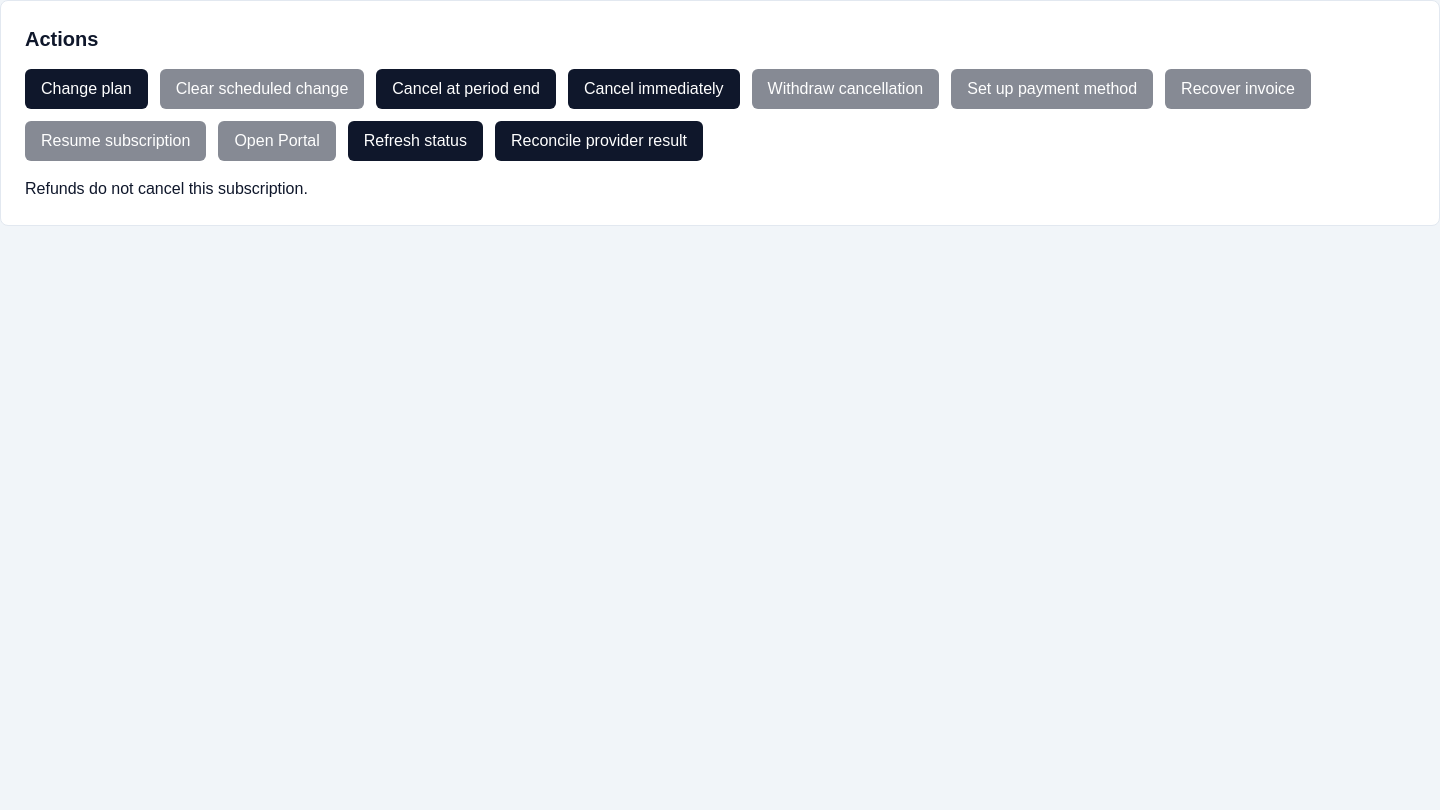
Test: rechecks quote expiry at confirmation instead of applying an expired quote
Step 1. Click the button "Change plan" → (86, 89), box [25,69,148,109]
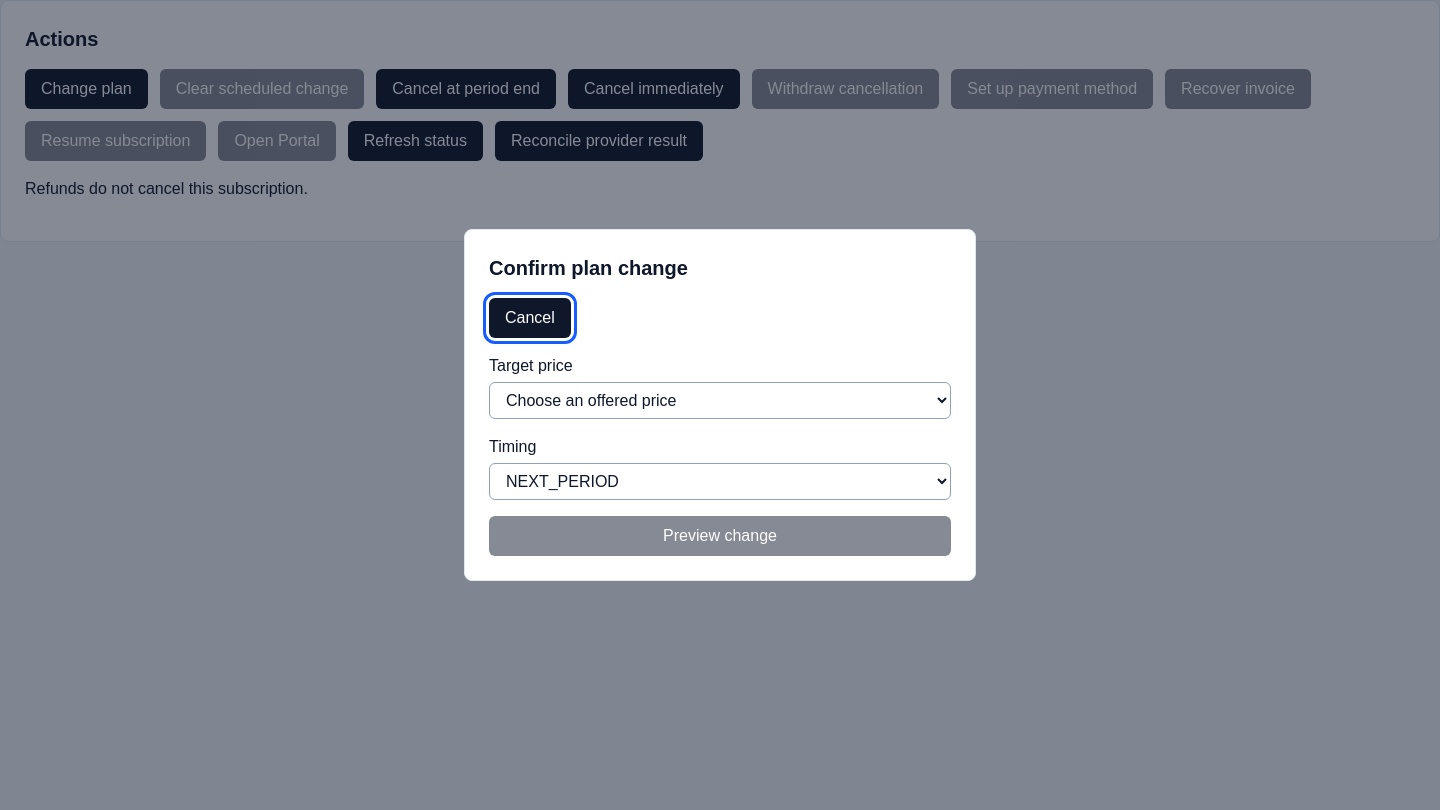
Step 2. Select "monthly · v1 · 70000000-0000-0000-0000-000000000007 · UPGRADE" in the dropdown labelled "Target price" → (720, 400), box [489,382,951,419]
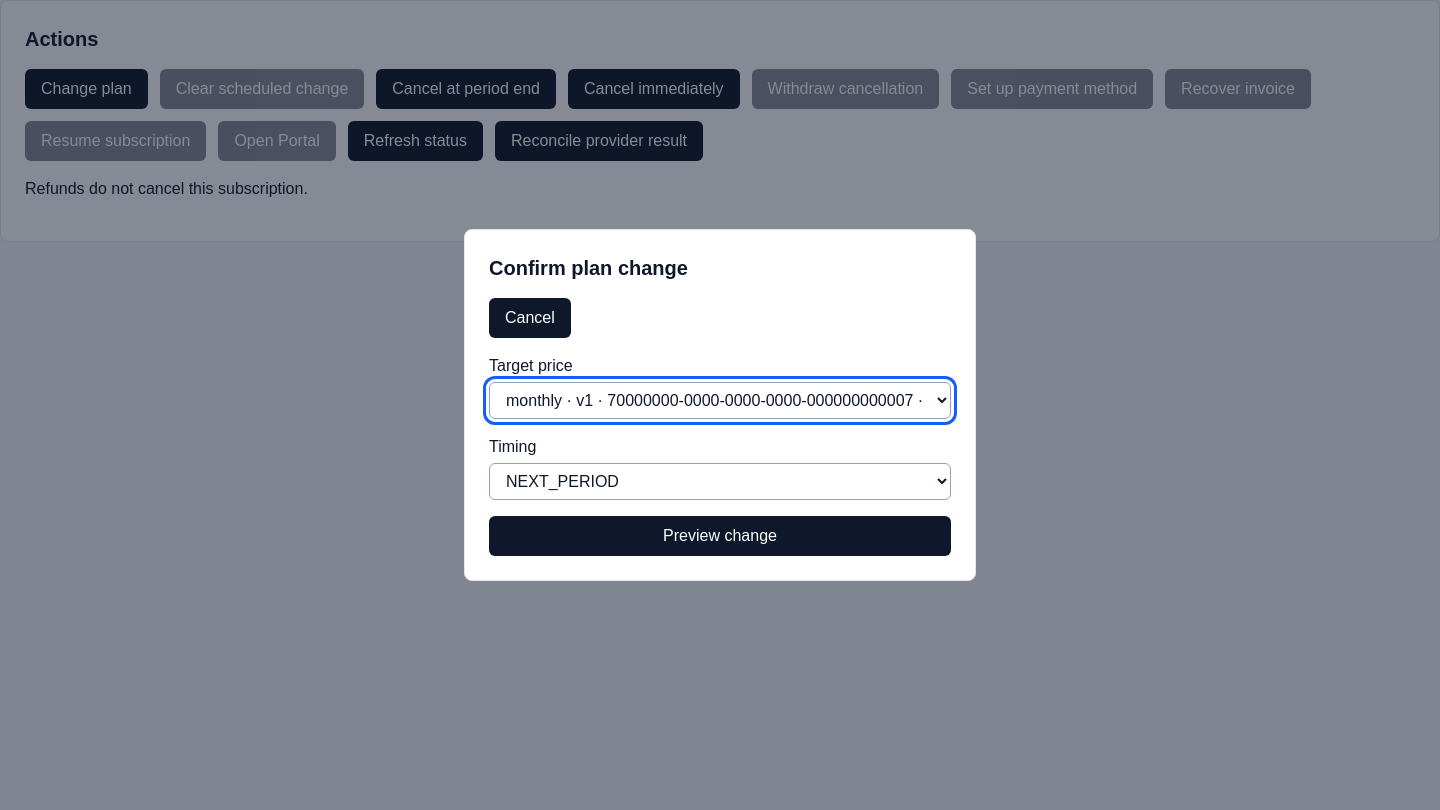
Step 3. Click the button "Preview change" → (720, 536), box [489,516,951,556]
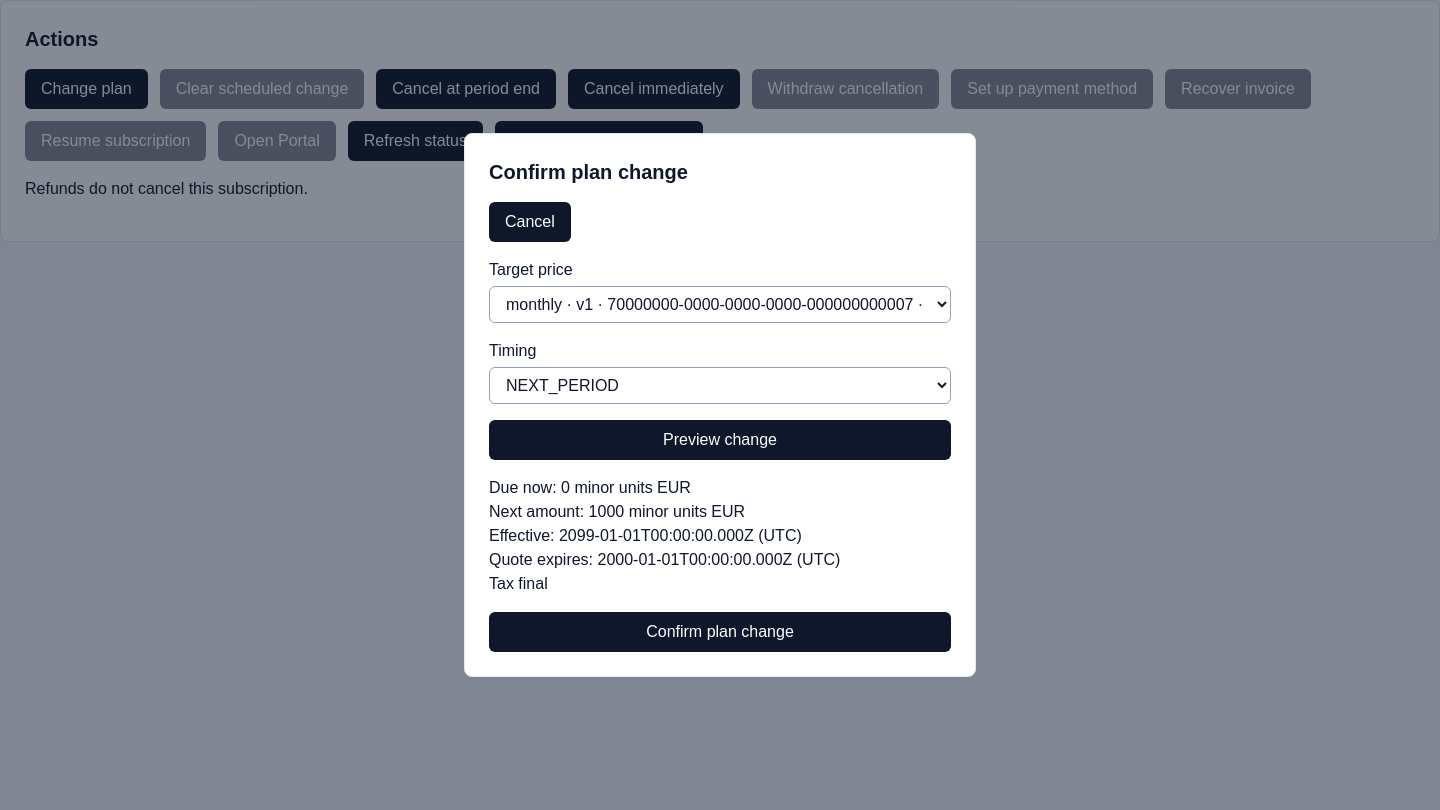
Step 4. Click the button "Confirm plan change" → (720, 632), box [489,612,951,652]
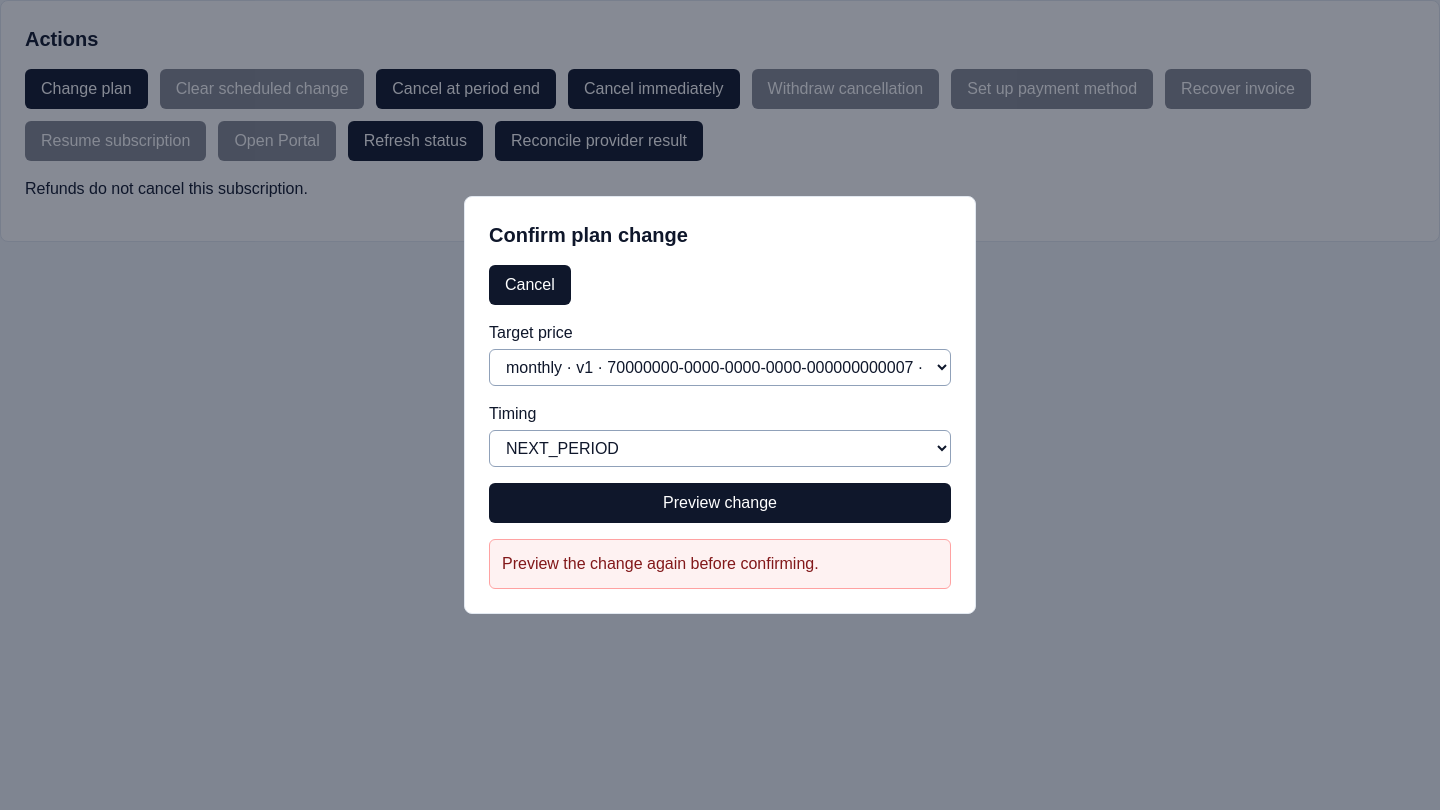
Now the message reads "Preview the change again before confirming.", box [502,555,819,572]
